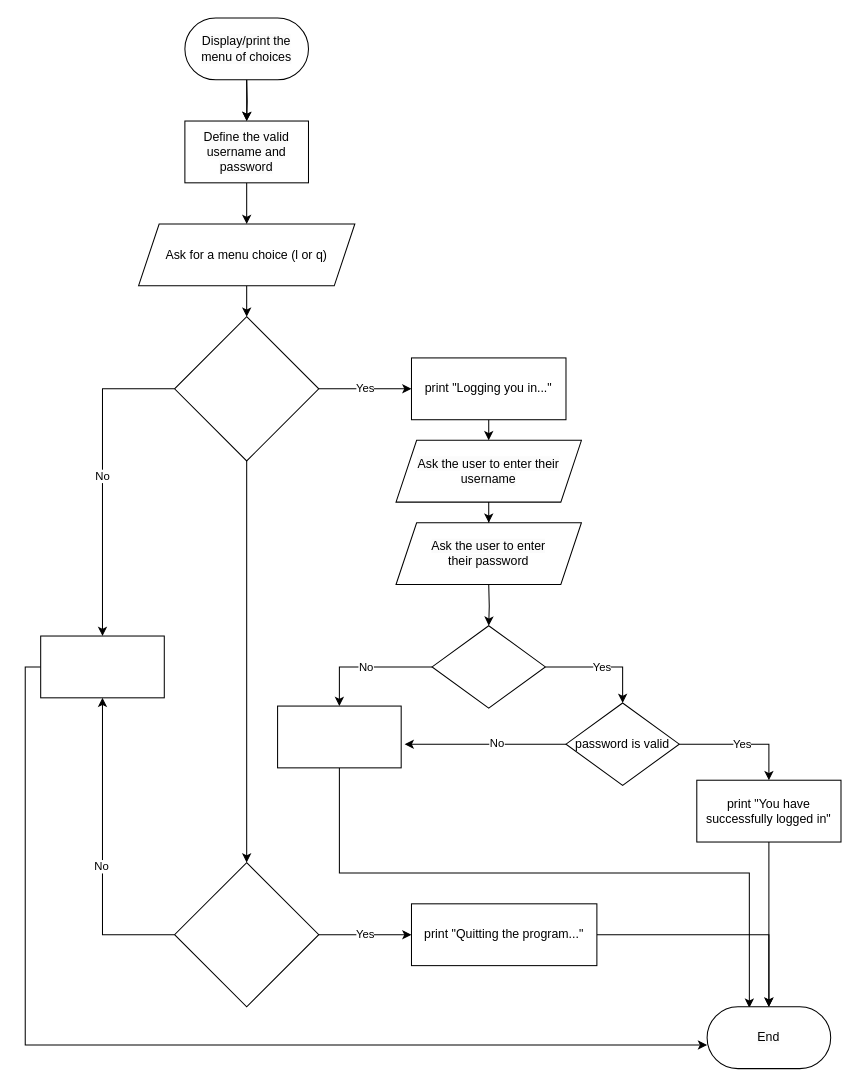
Image size: 859x1087. Some labels were removed from this diagram. The centre of each missing label's shape, as x and y in pixels:
print "Invalid choice! ": (102,666)
print "invalid credentials ": (339,736)
user choice is: l: (246,388)
user choice is: q: (246,934)
username is valid: (488,666)
